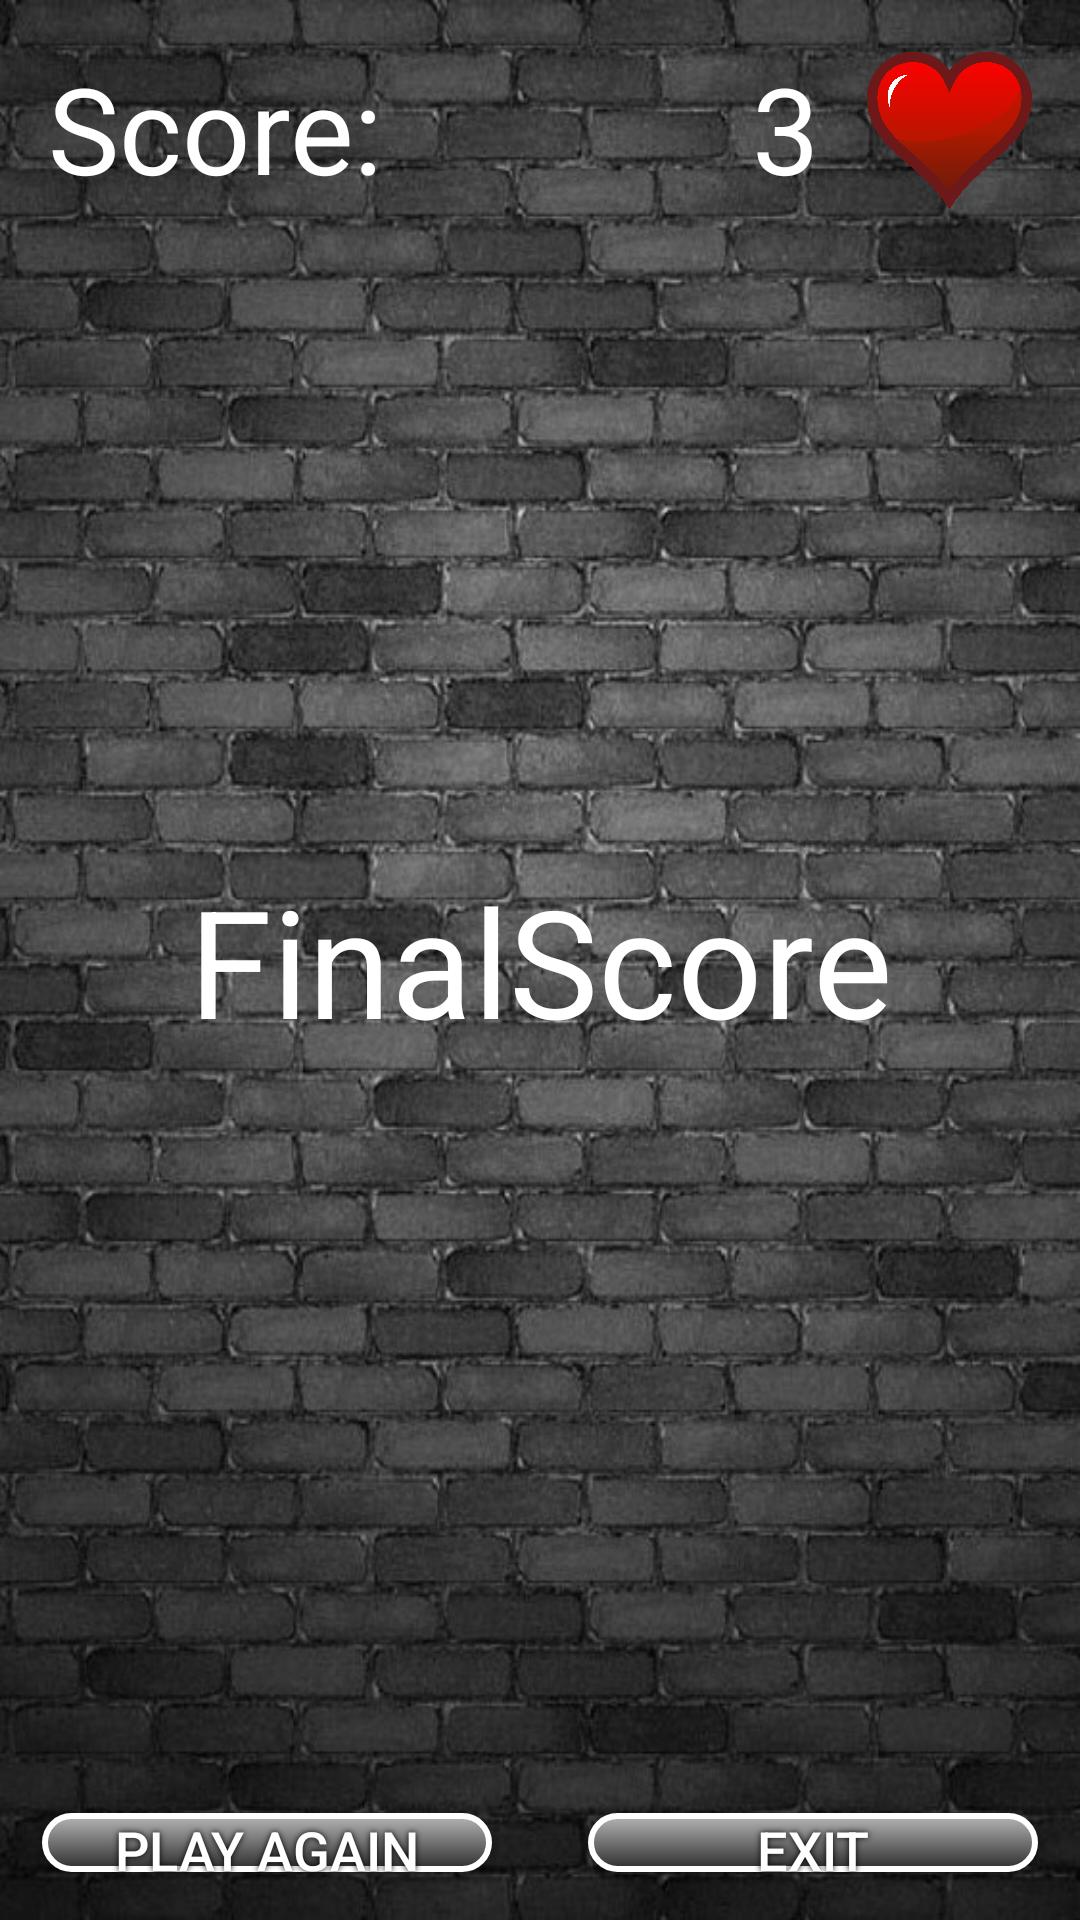

Screen size 1080x1920. Icon name, then its center in pixels as [x,y]:
heart: [949,130]
